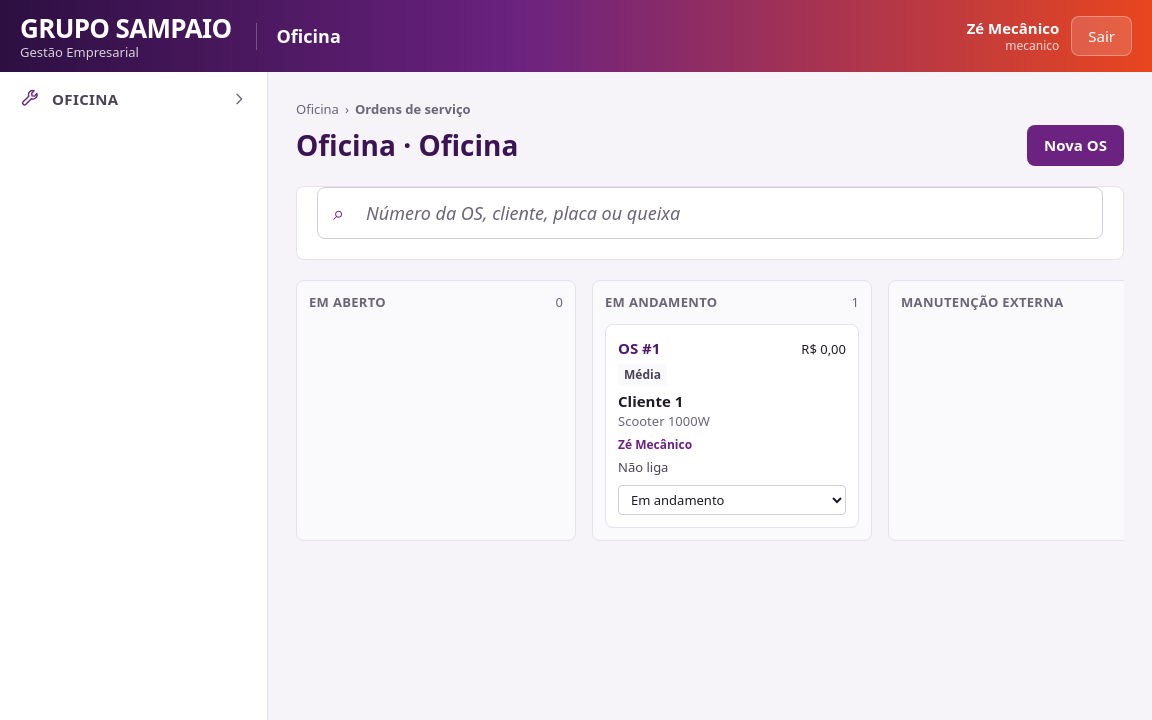
o quadro não anda calado › escolher outra coluna PERGUNTA a observação — e nada é enviado antes dela
Check: the link "OS #1" is shown, box [618,337,660,360]
Select "Aguardando peça" in the dropdown named "Situação da OS 1" at (732, 500), box [618,485,846,515]
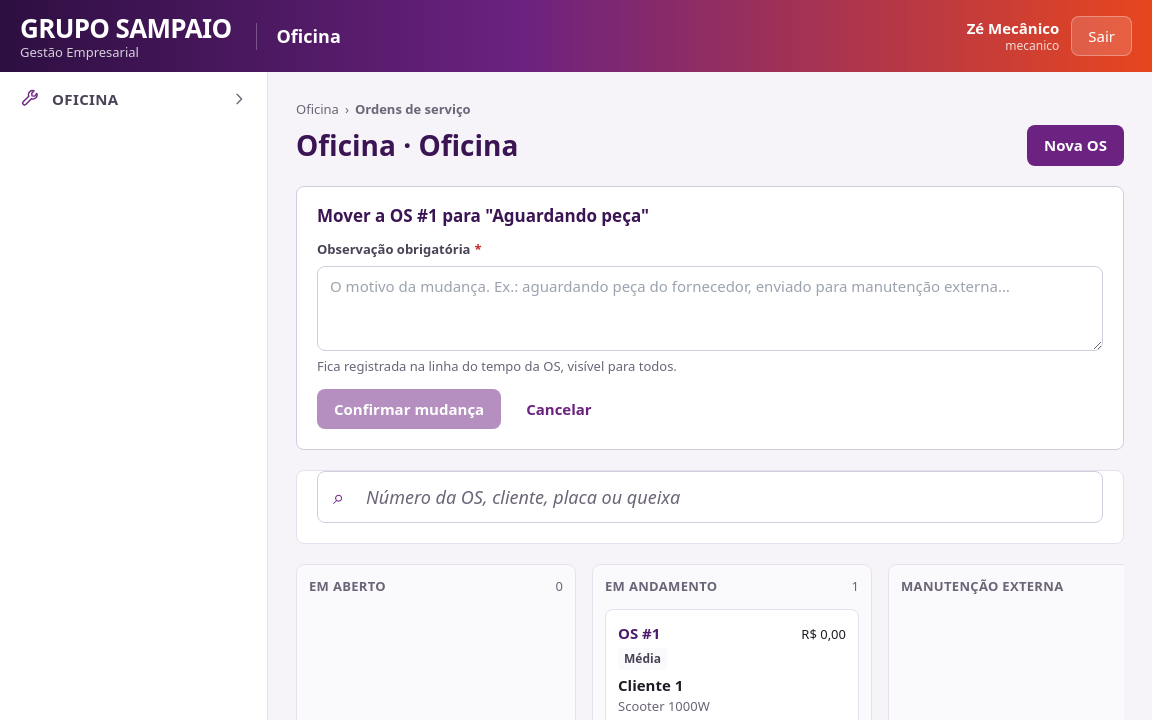
Check: the heading "Mover a OS #1 para \"Aguardando peça\"" is shown, box [317,202,649,228]
Check: the button "Confirmar mudança" is disabled, box [317,388,501,429]
